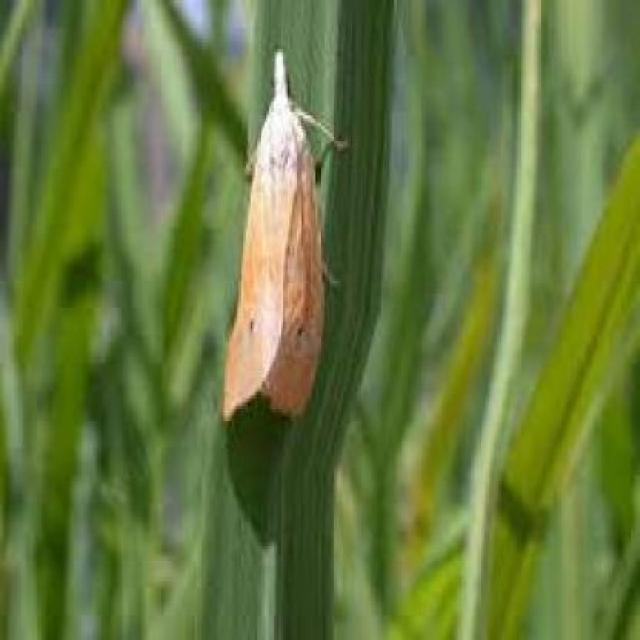stem-borer: (223, 48, 351, 424)
